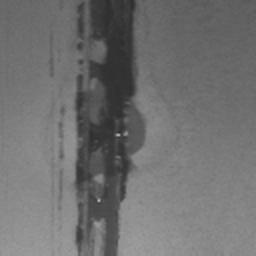Slag inclusion: (74, 0, 146, 256), (47, 31, 56, 78), (58, 166, 64, 215), (58, 120, 64, 160), (60, 106, 65, 116)
